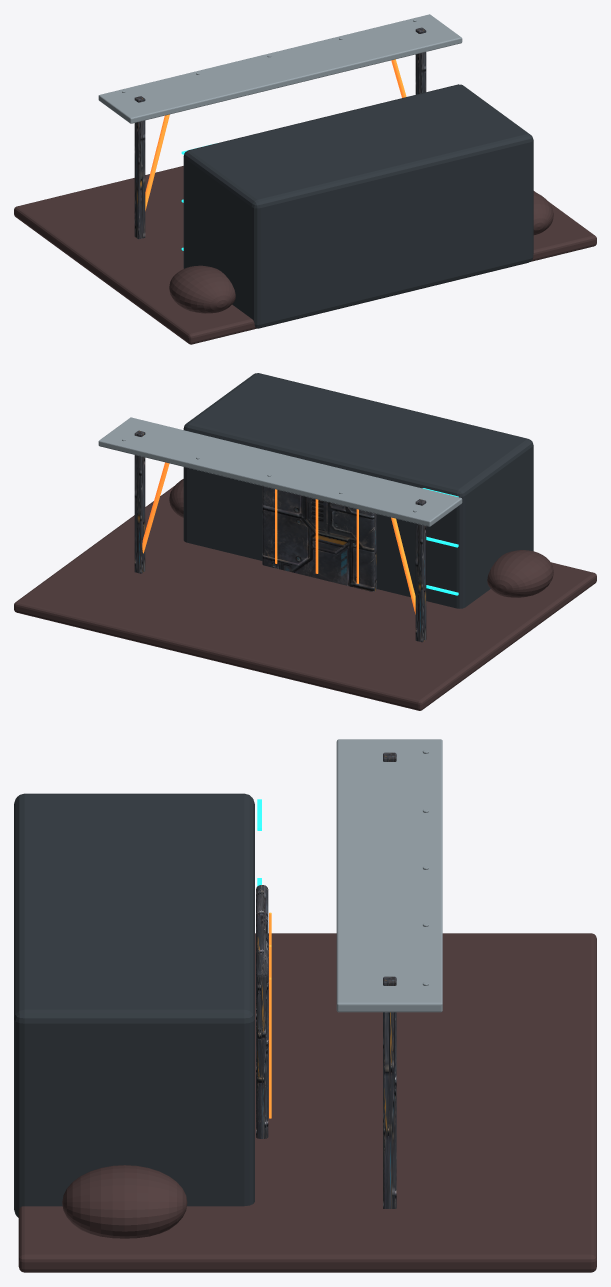
File: resonance_maintenance_facility.glb
3 views of the same model, one above another, from view 1: azimuth 30°, elevation 25°; view 2: azimuth 150°, elevation 25°; view 3: azimuth 270°, elevation 25° (orthographic). The views are drawn at different scales.
Parts seen in each view (by area): view 1: Vault/body, Foundation/rock_cut, Observation/platform, RockEdge/-6.2, Observation/post_-5.5, RockEdge/6.2, Observation/post_5.5, Observation/brace_-5.5; view 2: Foundation/rock_cut, Vault/body, Observation/platform, Vault/door, RockEdge/-6.2, Observation/post_-5.5, Observation/post_5.5, Observation/brace_-5.5, Observation/brace_5.5; view 3: Foundation/rock_cut, Vault/body, Observation/platform, RockEdge/6.2, Vault/door, Observation/post_5.5.
Boxes of the visible parts, x1=… form: Vault/body: x1=183, y1=84, x2=533, y2=328; Foundation/rock_cut: x1=14, y1=166, x2=596, y2=344; Observation/platform: x1=98, y1=14, x2=462, y2=123; RockEdge/-6.2: x1=169, y1=265, x2=235, y2=313; Observation/post_-5.5: x1=134, y1=96, x2=145, y2=239; RockEdge/6.2: x1=533, y1=192, x2=553, y2=235; Observation/post_5.5: x1=415, y1=27, x2=426, y2=94; Observation/brace_-5.5: x1=145, y1=114, x2=169, y2=210; Foundation/rock_cut: x1=14, y1=486, x2=596, y2=710; Vault/body: x1=183, y1=373, x2=533, y2=608; Observation/platform: x1=98, y1=417, x2=462, y2=526; Vault/door: x1=262, y1=486, x2=376, y2=591; RockEdge/-6.2: x1=487, y1=550, x2=553, y2=597; Observation/post_-5.5: x1=415, y1=499, x2=426, y2=642; Observation/post_5.5: x1=134, y1=430, x2=145, y2=573; Observation/brace_-5.5: x1=391, y1=517, x2=415, y2=614; Observation/brace_5.5: x1=142, y1=462, x2=169, y2=553; Foundation/rock_cut: x1=18, y1=933, x2=596, y2=1272; Vault/body: x1=14, y1=793, x2=254, y2=1217; Observation/platform: x1=336, y1=739, x2=442, y2=1012; RockEdge/6.2: x1=62, y1=1165, x2=187, y2=1238; Vault/door: x1=256, y1=885, x2=268, y2=1138; Observation/post_5.5: x1=383, y1=976, x2=396, y2=1208.
Bounding box in the file's own units: 16 × 5.6 × 12.1.
Materials: 6 (1 with a texture image).
